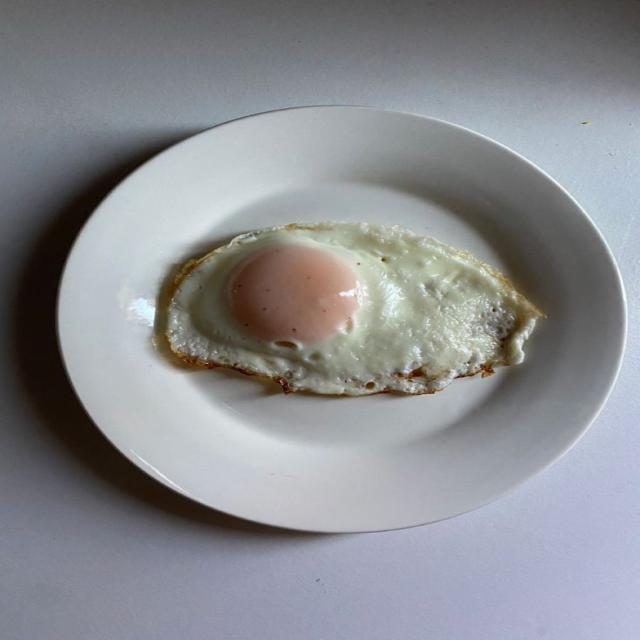fryed egg: (167, 223, 542, 395)
